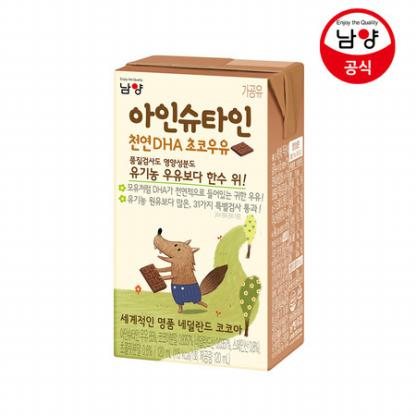tetra: (101, 44, 310, 384)
